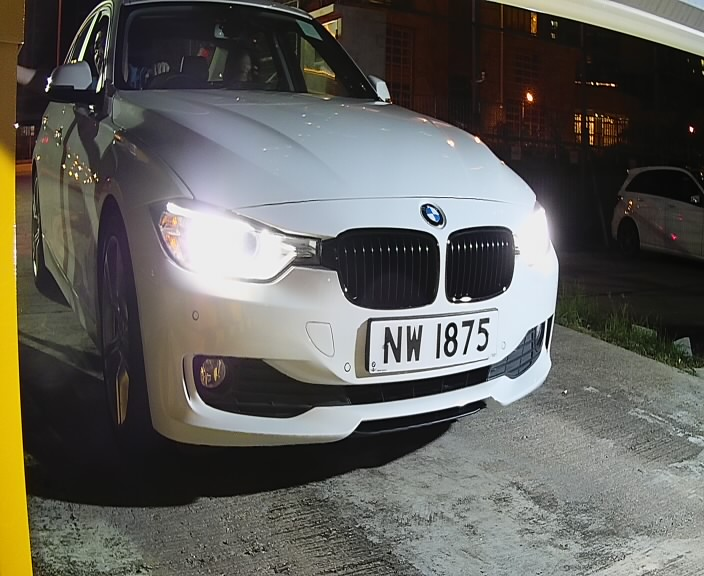License Plate: (363, 305, 502, 382)
